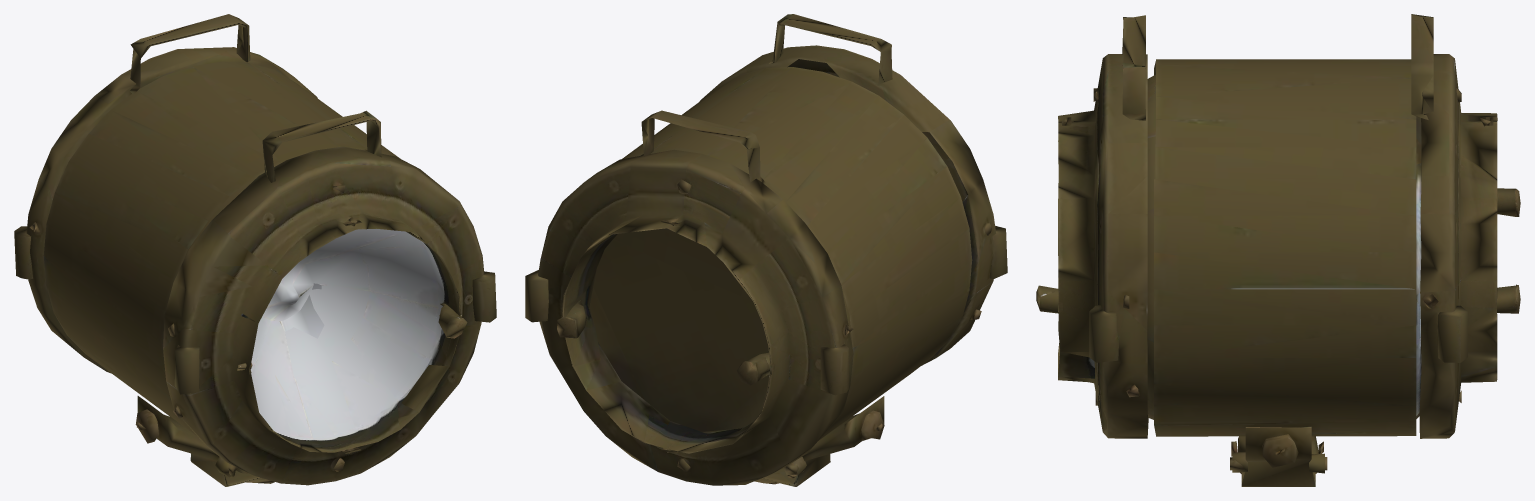
File: searchlight.glb
The picture shows the model from 3 angles, left to right: view 1: azimuth 30°, elevation 25°; view 2: azimuth 150°, elevation 25°; view 3: azimuth 270°, elevation 25°; orthographic projection. The views are drawn at different scales.
Bounding box in the file's own units: 1.11 × 1.3 × 1.33.
1 material, 1 textured.
